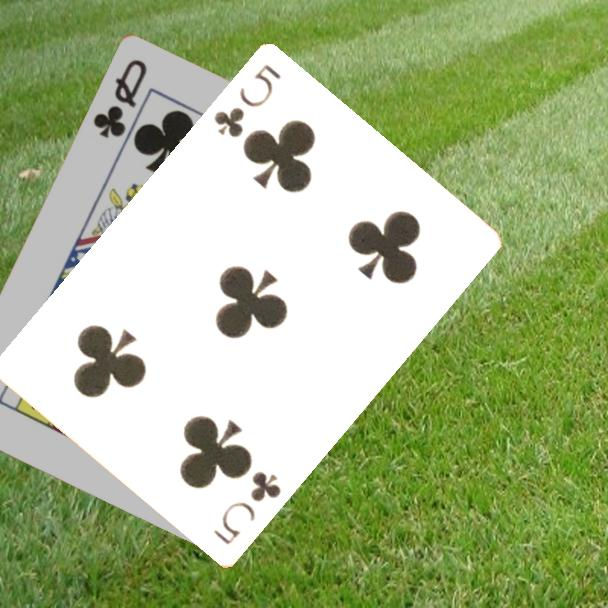c05: (210, 468, 285, 549), (210, 61, 284, 142)
c12: (89, 56, 150, 142)
